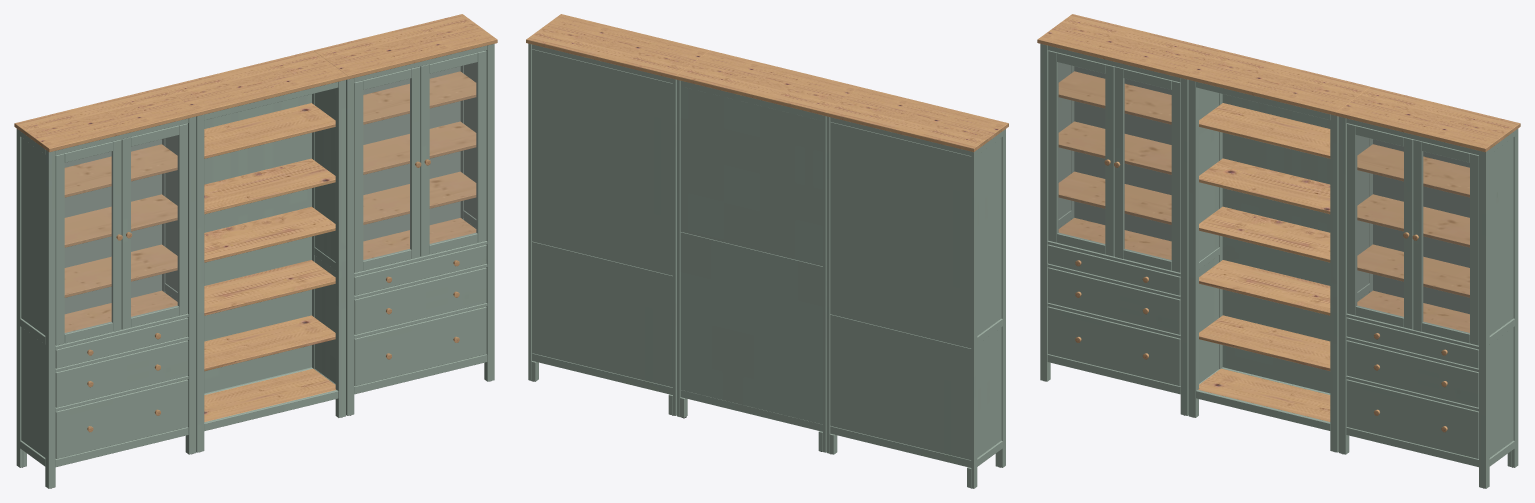
File: storage-1.glb
The picture shows the model from 3 angles, left to right: view 1: azimuth 30°, elevation 25°; view 2: azimuth 150°, elevation 25°; view 3: azimuth 330°, elevation 25°; orthographic projection.
Visible parts, largest first — view 1: 19591069_storage_combination_w_doors_drawers_001, 19591069_storage_combination_w_doors_drawers.002, 19591069_storage_combination_w_doors_drawers, 19591069_storage_combination_w_doors_drawers.001, 19591069_storage_combination_w_doors_drawers_013, 19591069_storage_combination_w_doors_drawers_012, 19591069_storage_combination_w_doors_drawers_019, 19591069_storage_combination_w_doors_drawers_018, 19591069_storage_combination_w_doors_drawers_017, 19591069_storage_combination_w_doors_drawers_016, 19591069_storage_combination_w_doors_drawers_021, 19591069_storage_combination_w_doors_drawers_020 (+2 smaller); view 2: 19591069_storage_combination_w_doors_drawers.001, 19591069_storage_combination_w_doors_drawers_015, 19591069_storage_combination_w_doors_drawers_014, 19591069_storage_combination_w_doors_drawers_001, 19591069_storage_combination_w_doors_drawers_021, 19591069_storage_combination_w_doors_drawers_020, 19591069_storage_combination_w_doors_drawers, 19591069_storage_combination_w_doors_drawers.002; view 3: 19591069_storage_combination_w_doors_drawers.002, 19591069_storage_combination_w_doors_drawers_001, 19591069_storage_combination_w_doors_drawers, 19591069_storage_combination_w_doors_drawers.001, 19591069_storage_combination_w_doors_drawers_013, 19591069_storage_combination_w_doors_drawers_012, 19591069_storage_combination_w_doors_drawers_017, 19591069_storage_combination_w_doors_drawers_016, 19591069_storage_combination_w_doors_drawers_019, 19591069_storage_combination_w_doors_drawers_018, 19591069_storage_combination_w_doors_drawers_020, 19591069_storage_combination_w_doors_drawers_021 (+2 smaller).
Boxes of the visible parts, left/top/right/bottom form: 19591069_storage_combination_w_doors_drawers_001: left=16, top=116, right=196, bottom=488; 19591069_storage_combination_w_doors_drawers.002: left=346, top=44, right=494, bottom=415; 19591069_storage_combination_w_doors_drawers: left=164, top=50, right=347, bottom=421; 19591069_storage_combination_w_doors_drawers.001: left=196, top=80, right=345, bottom=452; 19591069_storage_combination_w_doors_drawers_013: left=64, top=144, right=177, bottom=332; 19591069_storage_combination_w_doors_drawers_012: left=363, top=71, right=476, bottom=259; 19591069_storage_combination_w_doors_drawers_019: left=363, top=79, right=410, bottom=260; 19591069_storage_combination_w_doors_drawers_018: left=65, top=152, right=112, bottom=333; 19591069_storage_combination_w_doors_drawers_017: left=131, top=135, right=178, bottom=317; 19591069_storage_combination_w_doors_drawers_016: left=430, top=62, right=476, bottom=244; 19591069_storage_combination_w_doors_drawers_021: left=14, top=87, right=198, bottom=152; 19591069_storage_combination_w_doors_drawers_020: left=313, top=14, right=497, bottom=79; 19591069_storage_combination_w_doors_drawers.001: left=677, top=80, right=826, bottom=452; 19591069_storage_combination_w_doors_drawers_015: left=830, top=122, right=971, bottom=460; 19591069_storage_combination_w_doors_drawers_014: left=532, top=49, right=672, bottom=387; 19591069_storage_combination_w_doors_drawers_001: left=826, top=116, right=1005, bottom=488; 19591069_storage_combination_w_doors_drawers_021: left=824, top=87, right=1008, bottom=152; 19591069_storage_combination_w_doors_drawers_020: left=526, top=14, right=709, bottom=79; 19591069_storage_combination_w_doors_drawers: left=675, top=50, right=859, bottom=115; 19591069_storage_combination_w_doors_drawers.002: left=528, top=43, right=676, bottom=415; 19591069_storage_combination_w_doors_drawers.002: left=1338, top=116, right=1518, bottom=488; 19591069_storage_combination_w_doors_drawers_001: left=1040, top=44, right=1188, bottom=415; 19591069_storage_combination_w_doors_drawers: left=1187, top=50, right=1370, bottom=421; 19591069_storage_combination_w_doors_drawers.001: left=1188, top=80, right=1338, bottom=452; 19591069_storage_combination_w_doors_drawers_013: left=1058, top=71, right=1171, bottom=259; 19591069_storage_combination_w_doors_drawers_012: left=1357, top=144, right=1469, bottom=332; 19591069_storage_combination_w_doors_drawers_017: left=1124, top=79, right=1171, bottom=260; 19591069_storage_combination_w_doors_drawers_016: left=1422, top=152, right=1469, bottom=333; 19591069_storage_combination_w_doors_drawers_019: left=1356, top=135, right=1403, bottom=317; 19591069_storage_combination_w_doors_drawers_018: left=1058, top=62, right=1104, bottom=244; 19591069_storage_combination_w_doors_drawers_020: left=1336, top=87, right=1520, bottom=152; 19591069_storage_combination_w_doors_drawers_021: left=1037, top=14, right=1220, bottom=79.
Size of the model in its own units: 2.7 by 1.97 by 0.3704.
12 materials, 7 textured.
